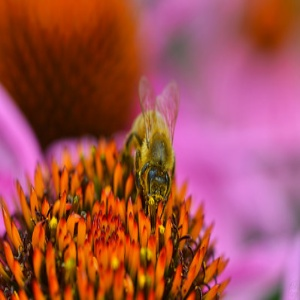bee: (124, 80, 180, 228)
